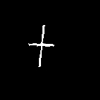single_crochet: (29, 25, 53, 66)
